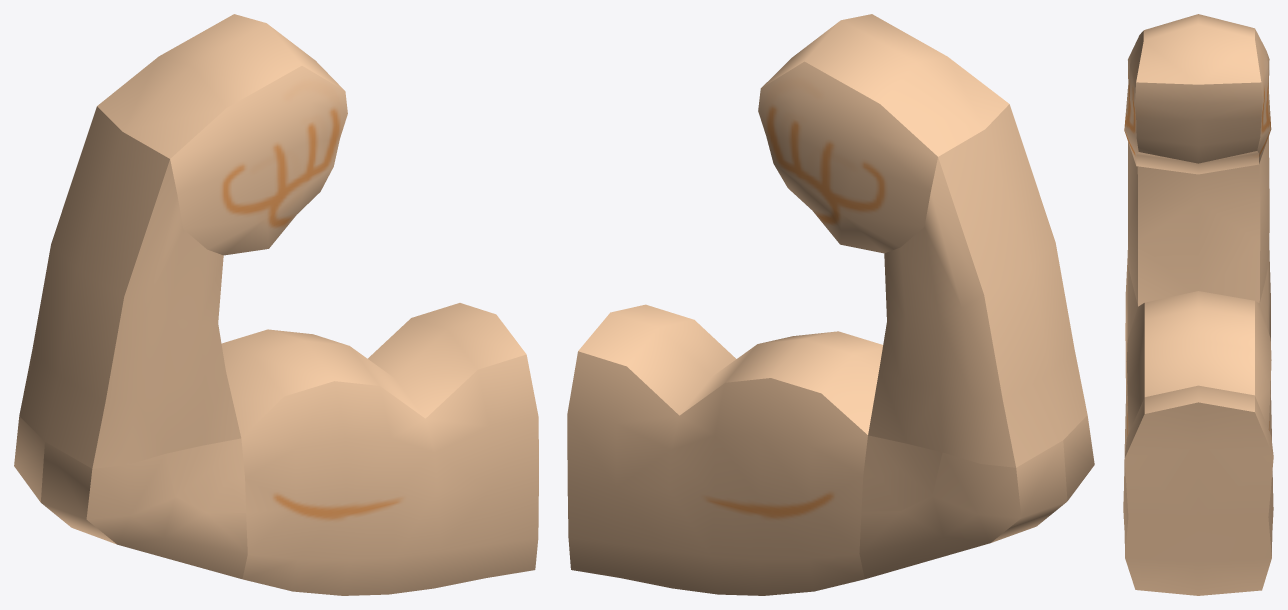
The model's file is item_power.fbx.
3 views of the same model, side by side, from view 1: azimuth 30°, elevation 25°; view 2: azimuth 150°, elevation 25°; view 3: azimuth 270°, elevation 25° (orthographic). The views are drawn at different scales.
Parts seen in each view (by area): view 1: pCube7; view 2: pCube7; view 3: pCube7.
Boxes of the visible parts, left/top/right/bottom form: pCube7: left=14, top=14, right=538, bottom=595; pCube7: left=567, top=14, right=1094, bottom=595; pCube7: left=1123, top=14, right=1273, bottom=595.
Size of the model in its own units: 1.55 by 1.89 by 0.5373.
